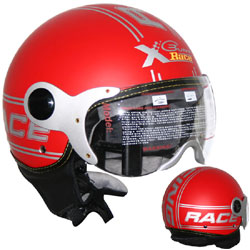helmet: (11, 8, 211, 168), (166, 161, 250, 245)
